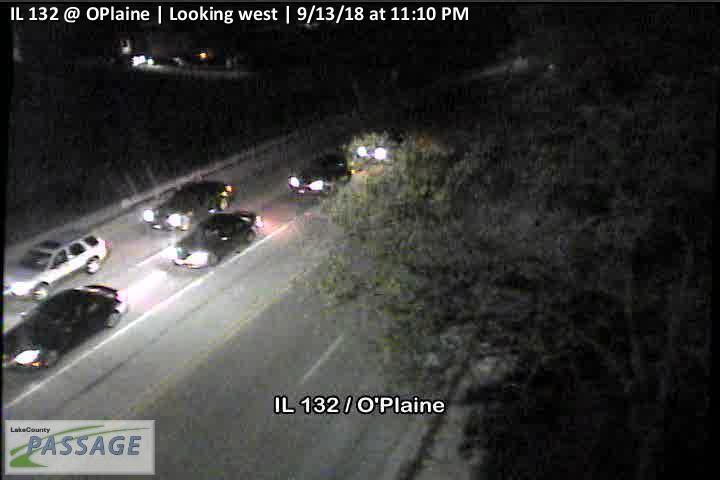SUV: (2, 227, 110, 300)
Sedan: (1, 283, 124, 378), (173, 209, 261, 270), (143, 179, 233, 232), (286, 151, 350, 197)
